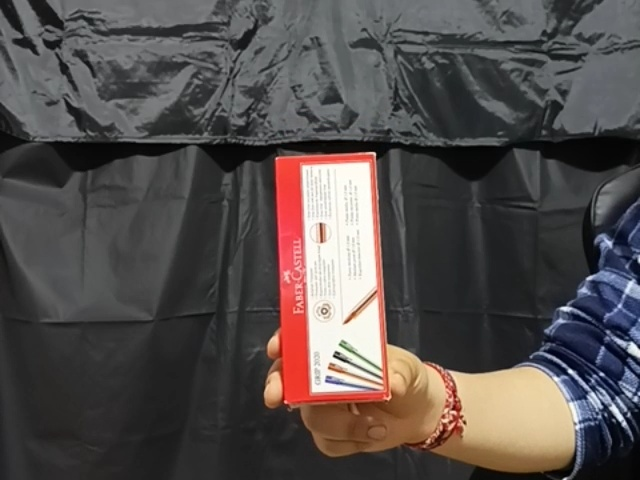xd: (272, 153, 391, 404)
